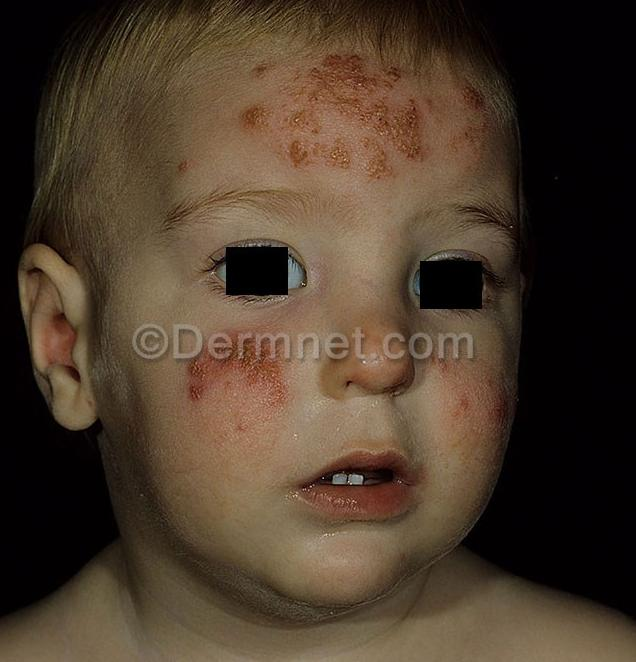Eritema 2: (246, 54, 463, 187)
edema 2: (237, 59, 424, 183), (183, 331, 291, 404)
exudacion 2: (231, 52, 428, 183), (186, 329, 295, 406)
